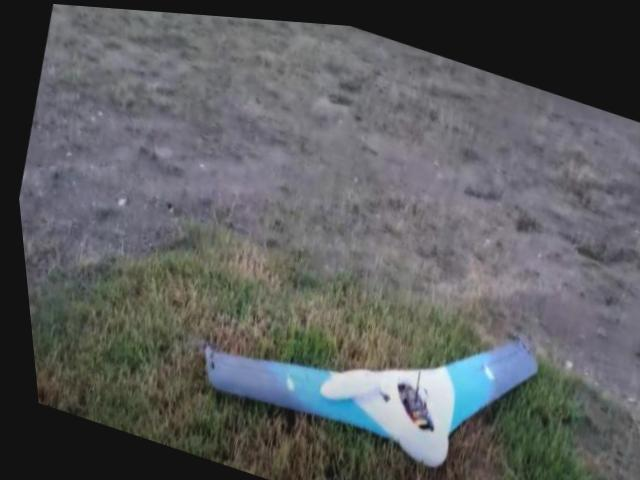iha: (166, 230, 545, 480)
